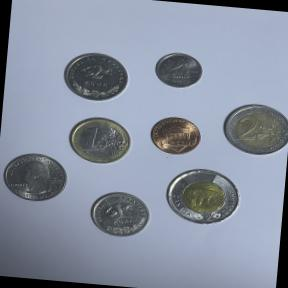1 Euro: (65, 113, 134, 167)
2 Euro: (218, 98, 288, 159)
Canda-10cent-: (151, 50, 207, 93)
Canda-2Dollar-: (161, 164, 245, 230)
Croatia-2Kune-: (59, 48, 133, 107)
US-1cent-: (146, 114, 206, 159)
US-25cent-: (0, 149, 73, 205)
